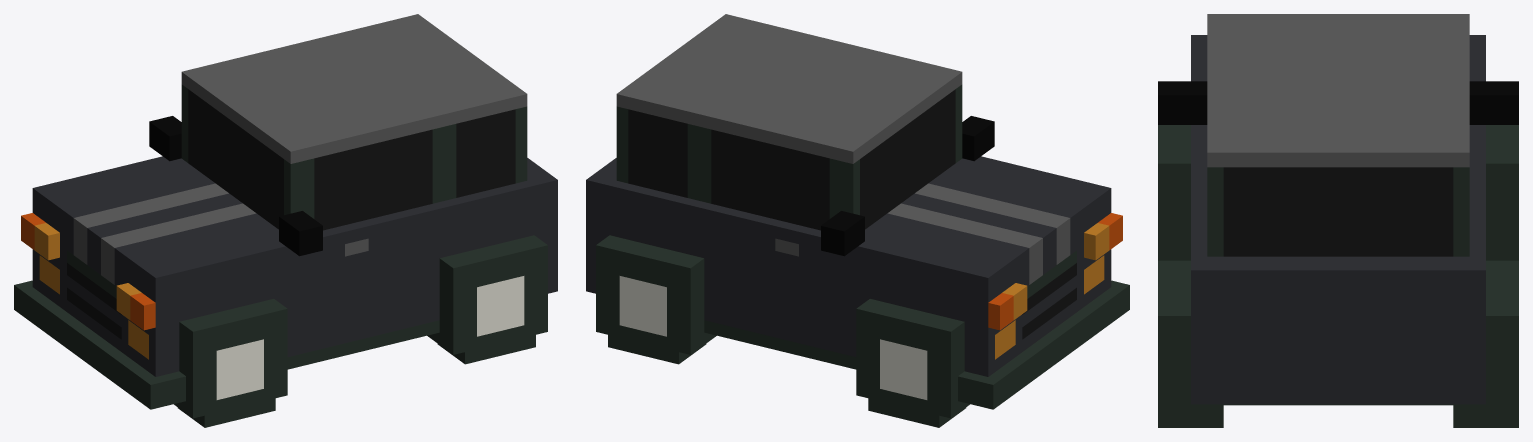
File: car_gray_len_2.glb
3 renders of one model, left to right at view 1: azimuth 30°, elevation 25°; view 2: azimuth 150°, elevation 25°; view 3: azimuth 270°, elevation 25°, orthographic. The views are drawn at different scales.
Parts seen in each view (by area): view 1: _0; view 2: _0; view 3: _0.
Part boxes in pixels (box(x1,y1,x2,y2)): _0: box(14, 14, 557, 427); _0: box(586, 14, 1129, 427); _0: box(1158, 14, 1518, 427).
Bounding box in the file's own units: 0.0525 × 0.0285 × 0.033.
